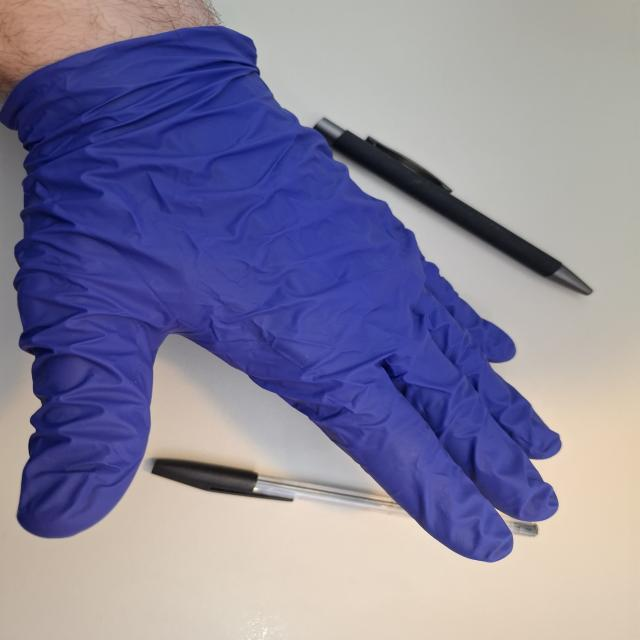glove_on: (1, 23, 568, 565)
